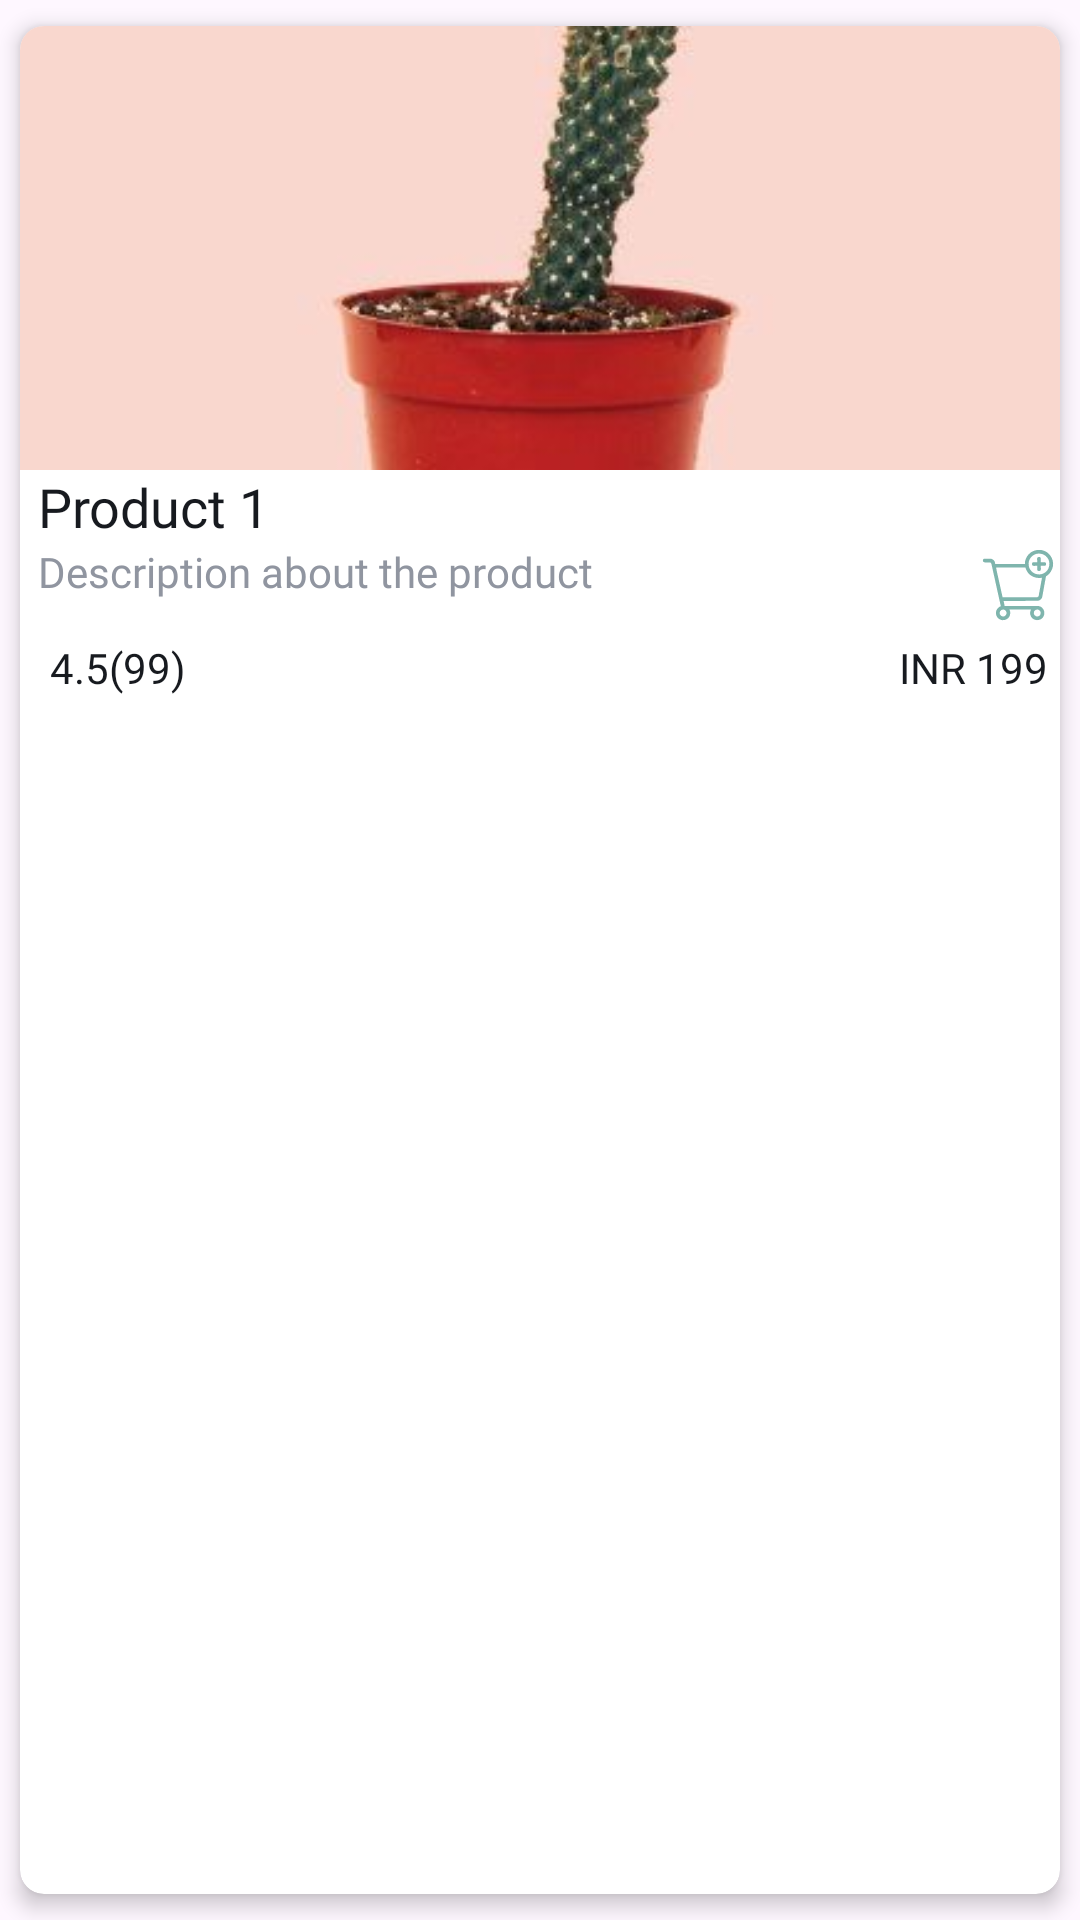

Named icons in this screenshot (1080*1920) and their centers, point (x, y):
add to cart: point (1018, 585)
